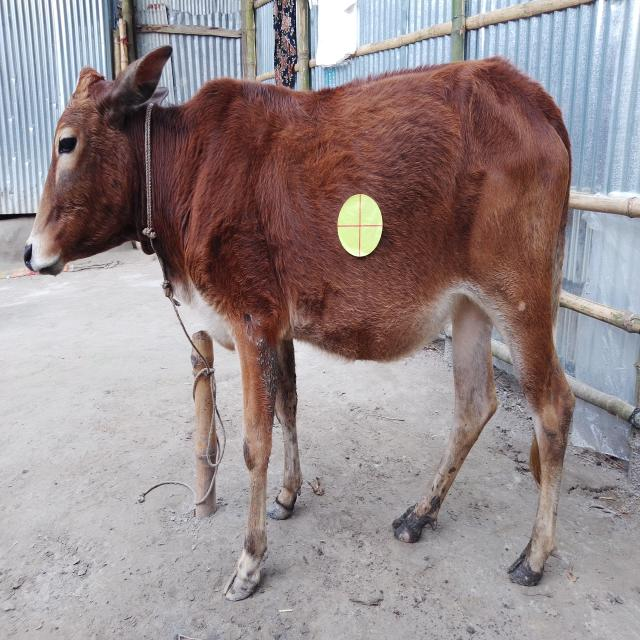badan_sapi: (195, 83, 571, 360)
sapi: (26, 42, 597, 610)
